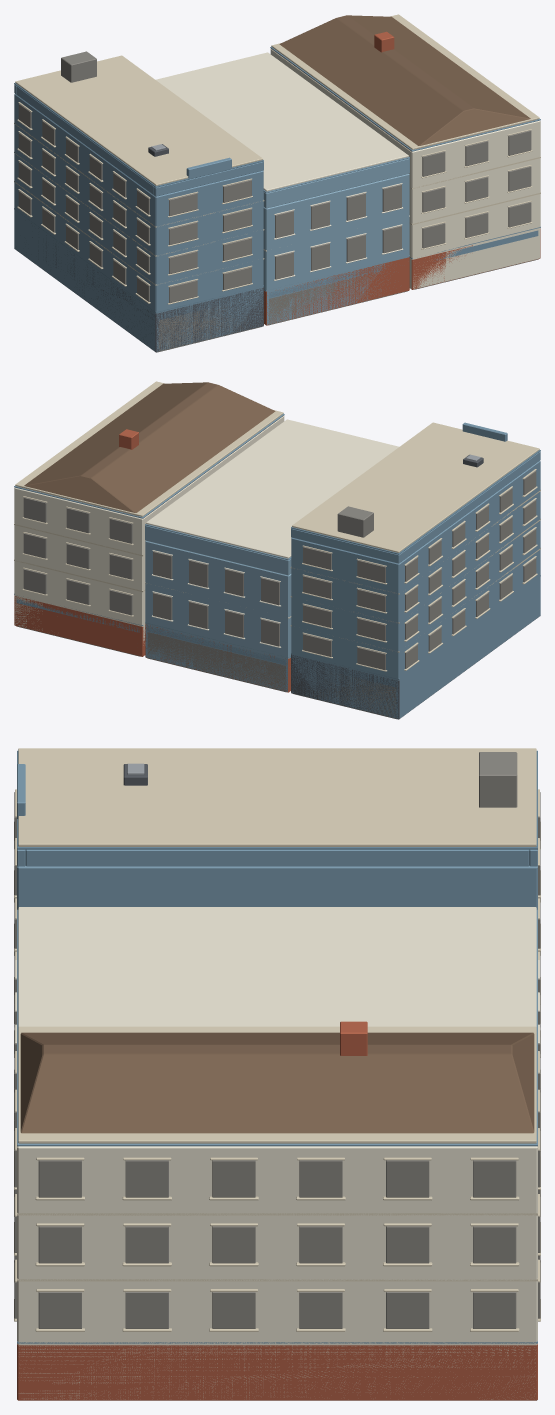
The model's file is VG_Bld_Commercial_15.fbx.
3 renders of one model, top to bottom at view 1: azimuth 30°, elevation 25°; view 2: azimuth 150°, elevation 25°; view 3: azimuth 270°, elevation 25°, orthographic. The views are drawn at different scales.
Visible parts, largest first — view 1: VG_Bld_Commercial_15_Body; view 2: VG_Bld_Commercial_15_Body; view 3: VG_Bld_Commercial_15_Body.
Boxes of the visible parts, <box> form: VG_Bld_Commercial_15_Body: <box>14,14,540,352</box>; VG_Bld_Commercial_15_Body: <box>14,381,540,719</box>; VG_Bld_Commercial_15_Body: <box>14,748,540,1400</box>.
Bounding box in the file's own units: 47 × 21.45 × 30.
